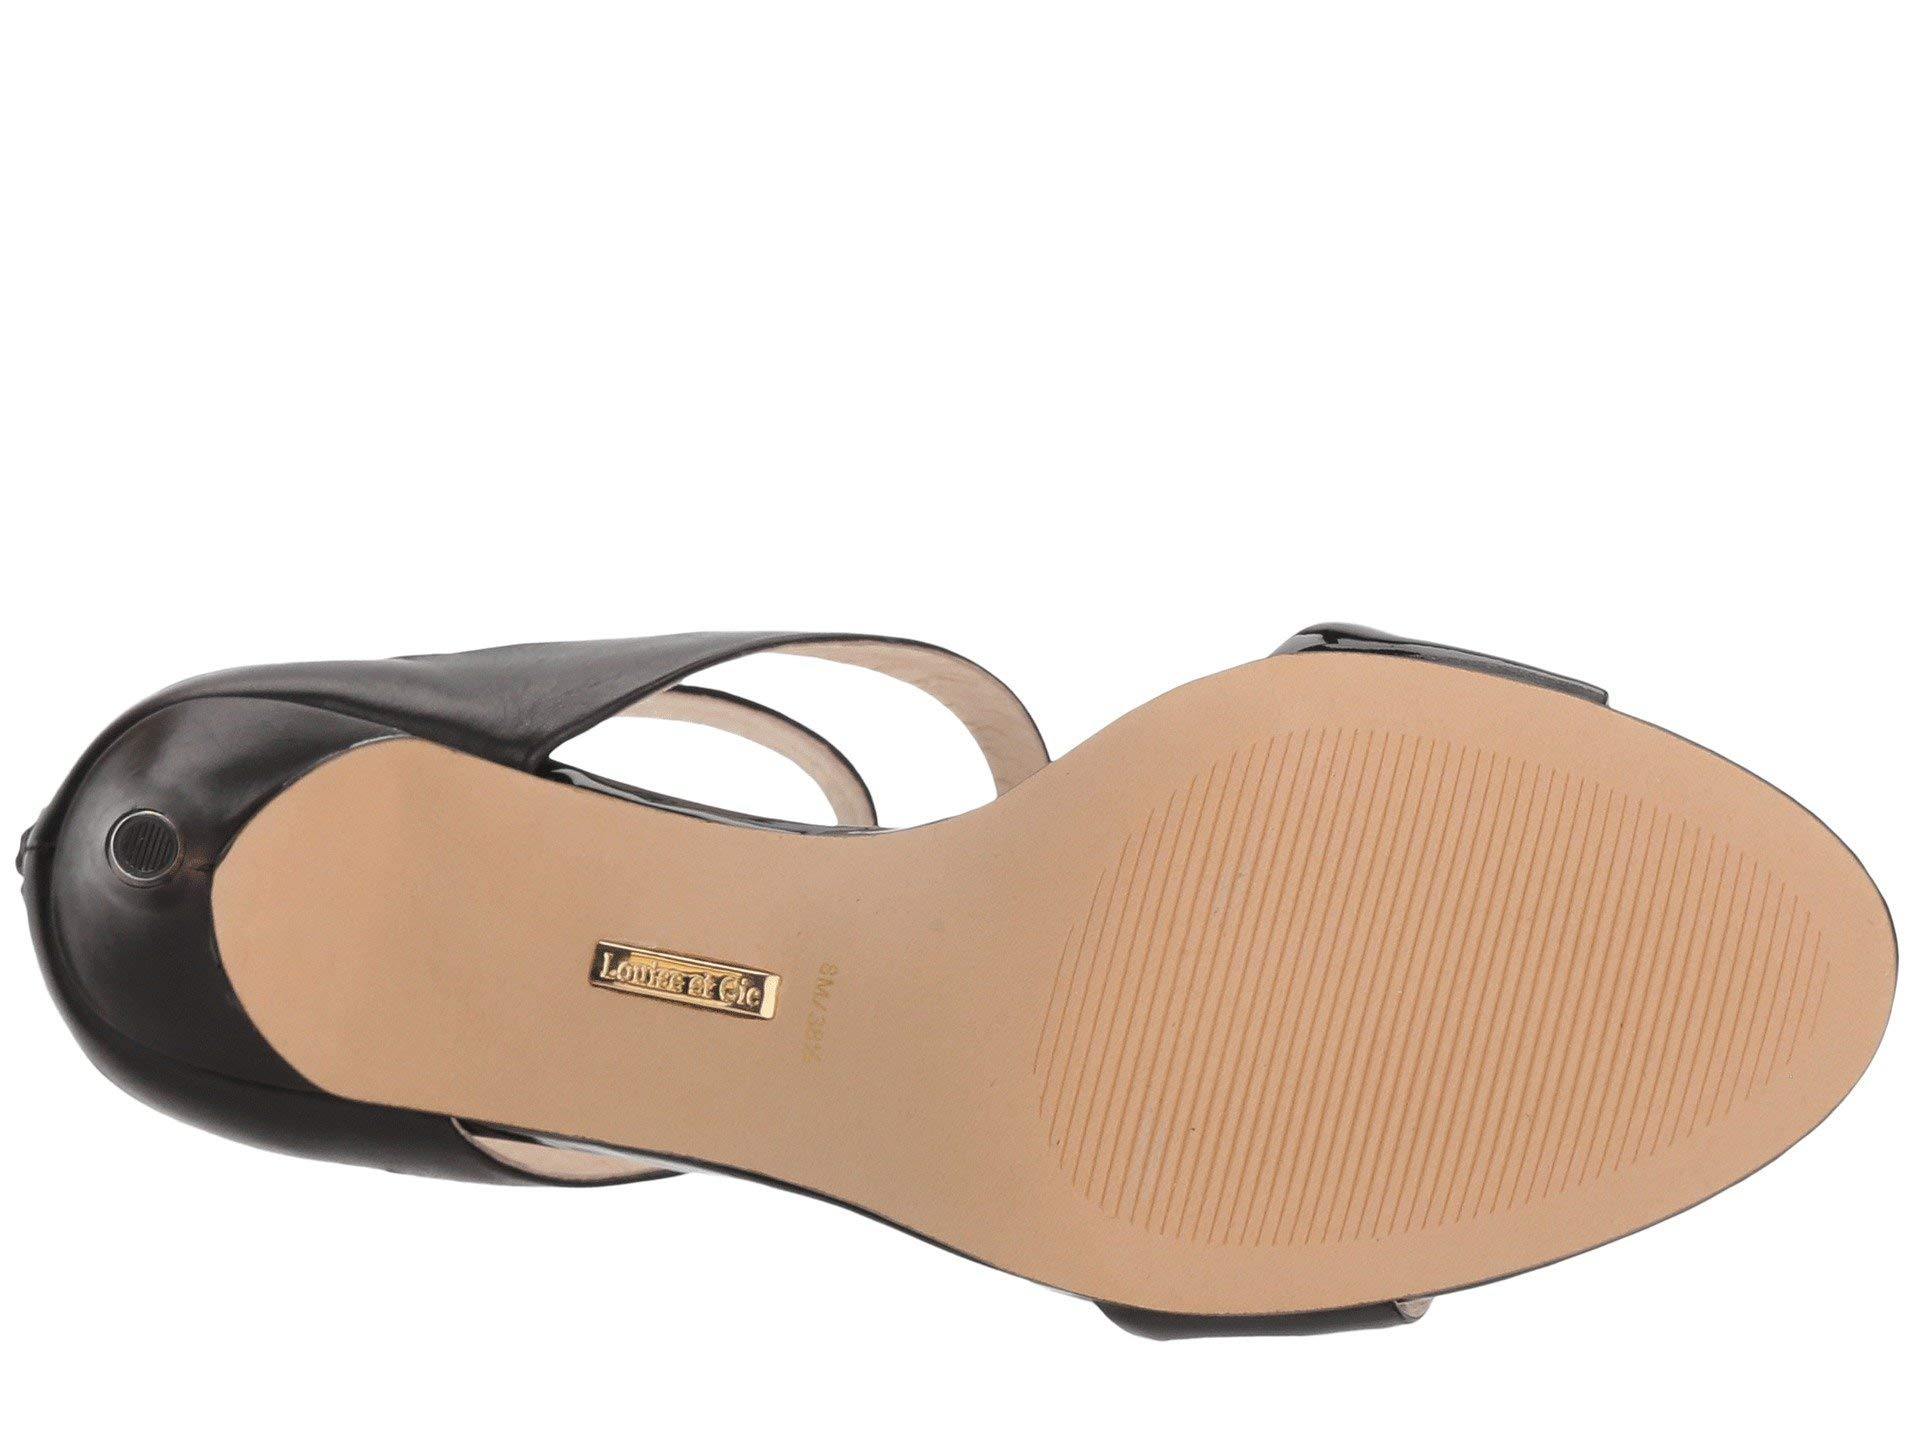line: (1179, 762, 1663, 1224)
